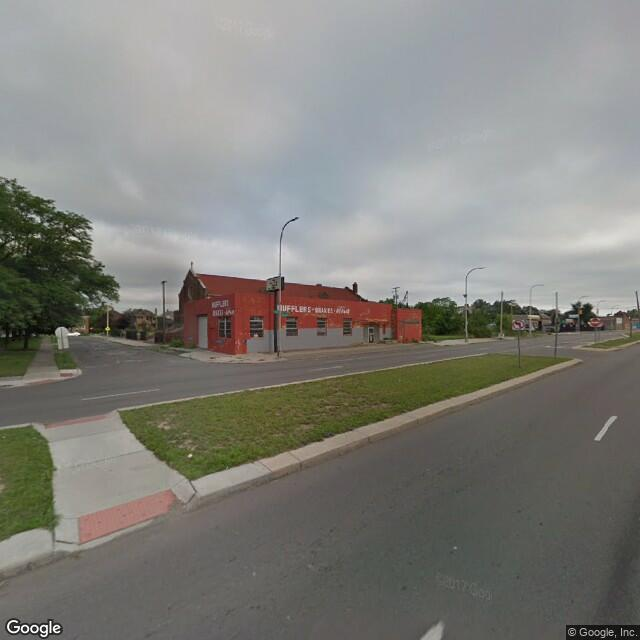litter: (187, 452, 195, 460)
